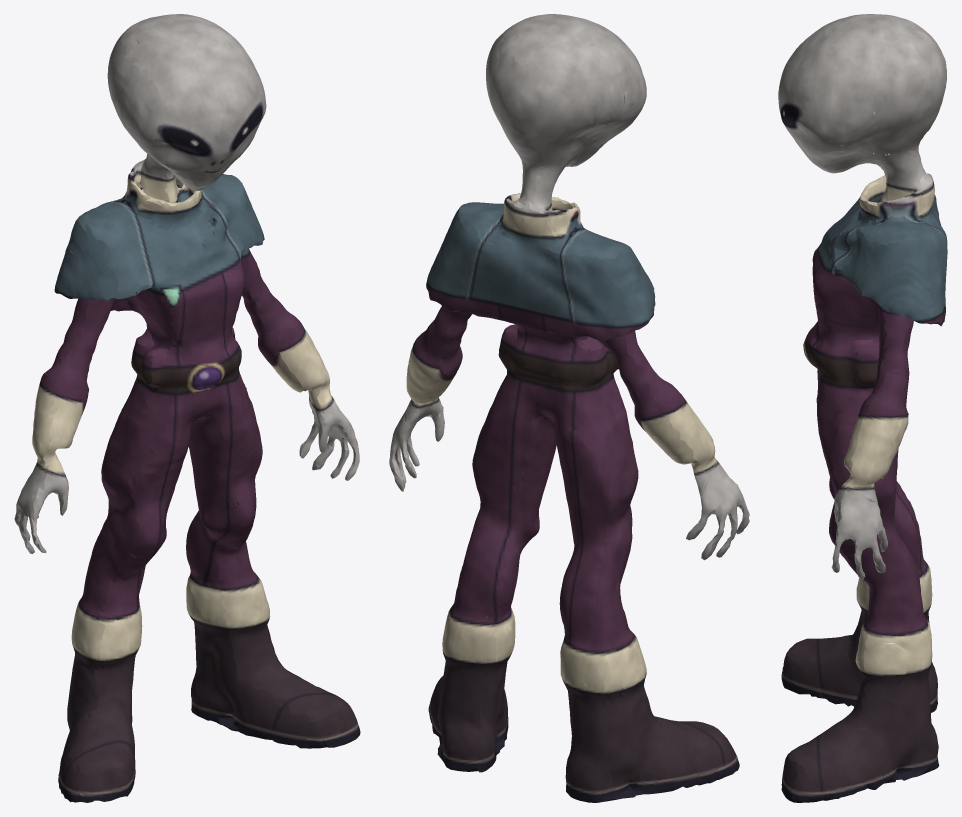
File: paint-refined.glb
The picture shows the model from 3 angles, left to right: view 1: azimuth 30°, elevation 25°; view 2: azimuth 150°, elevation 25°; view 3: azimuth 270°, elevation 25°; orthographic projection. The views are drawn at different scales.
Visible parts, largest first — view 1: Vey_Rig; view 2: Vey_Rig; view 3: Vey_Rig.
Part boxes in pixels (x1,y1,x2,y2): Vey_Rig: (14, 14, 360, 802); Vey_Rig: (389, 14, 749, 802); Vey_Rig: (778, 14, 947, 802).
Size of the model in its own units: 0.9679 by 2 by 0.4319.
Materials: 1 (1 with a texture image).
